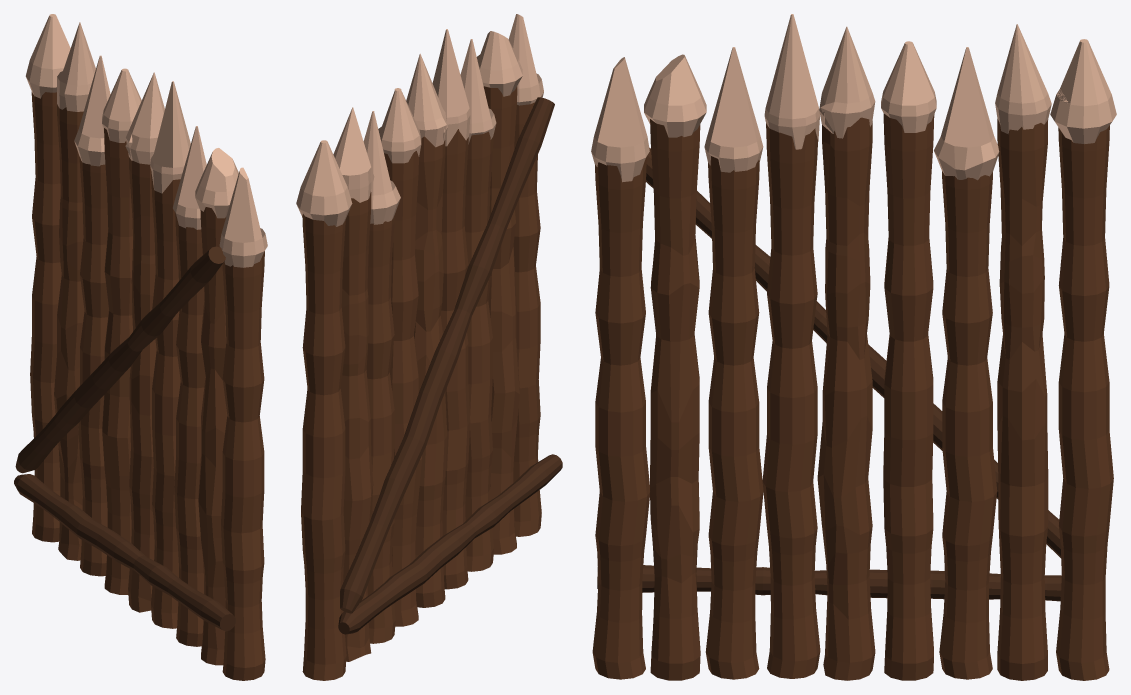
File: Fence_Wood_1.fbx
The picture shows the model from 3 angles, left to right: view 1: azimuth 30°, elevation 25°; view 2: azimuth 150°, elevation 25°; view 3: azimuth 270°, elevation 25°; orthographic projection. The views are drawn at different scales.
Parts seen in each view (by area): view 1: Cylinder.400, Cylinder.384, Cylinder.385, Cylinder.389, Cylinder.398, Cylinder.387, Cylinder.399, Cylinder.401, Cylinder.388, Cylinder.402, Cylinder.403, Cylinder.392 (+8 smaller); view 2: Cylinder.384, Cylinder.402, Cylinder.387, Cylinder.401, Cylinder.399, Cylinder.385, Cylinder.389, Cylinder.398, Cylinder.400, Cylinder.388, Cylinder.403, Cylinder.393 (+8 smaller); view 3: Cylinder.387, Cylinder.389, Cylinder.401, Cylinder.384, Cylinder.385, Cylinder.399, Cylinder.398, Cylinder.400, Cylinder.388, Cylinder.394, Cylinder.392, Cylinder.390 (+8 smaller).
Part boxes in pixels (x1,y1,x2,y2): Cylinder.400: (221,251,265,680); Cylinder.384: (30,92,61,542); Cylinder.385: (102,128,132,594); Cylinder.389: (151,171,180,628); Cylinder.398: (174,213,205,646); Cylinder.387: (128,157,156,612); Cylinder.399: (198,207,227,665); Cylinder.401: (54,104,84,560); Cylinder.388: (78,157,108,576); Cylinder.402: (15,246,225,473); Cylinder.403: (14,474,235,631); Cylinder.392: (219,167,267,267); Cylinder.384: (301,214,346,680); Cylinder.402: (340,97,554,613); Cylinder.387: (414,136,447,607); Cylinder.401: (340,192,373,661); Cylinder.399: (483,86,519,554); Cylinder.385: (384,151,421,626); Cylinder.389: (440,129,470,589); Cylinder.398: (464,131,493,571); Cylinder.400: (513,102,541,536); Cylinder.388: (366,214,395,643); Cylinder.403: (338,454,562,634); Cylinder.393: (296,140,352,226); Cylinder.387: (817,117,875,680); Cylinder.389: (762,123,820,678); Cylinder.401: (997,119,1048,680); Cylinder.384: (1056,125,1113,680); Cylinder.385: (883,113,934,680); Cylinder.399: (650,119,700,680); Cylinder.398: (705,156,763,679); Cylinder.400: (592,157,649,679); Cylinder.388: (939,171,997,679); Cylinder.394: (934,47,999,180); Cylinder.392: (591,57,649,182); Cylinder.390: (704,47,763,172).
Size of the model in its own units: 130 by 1079 by 784.
